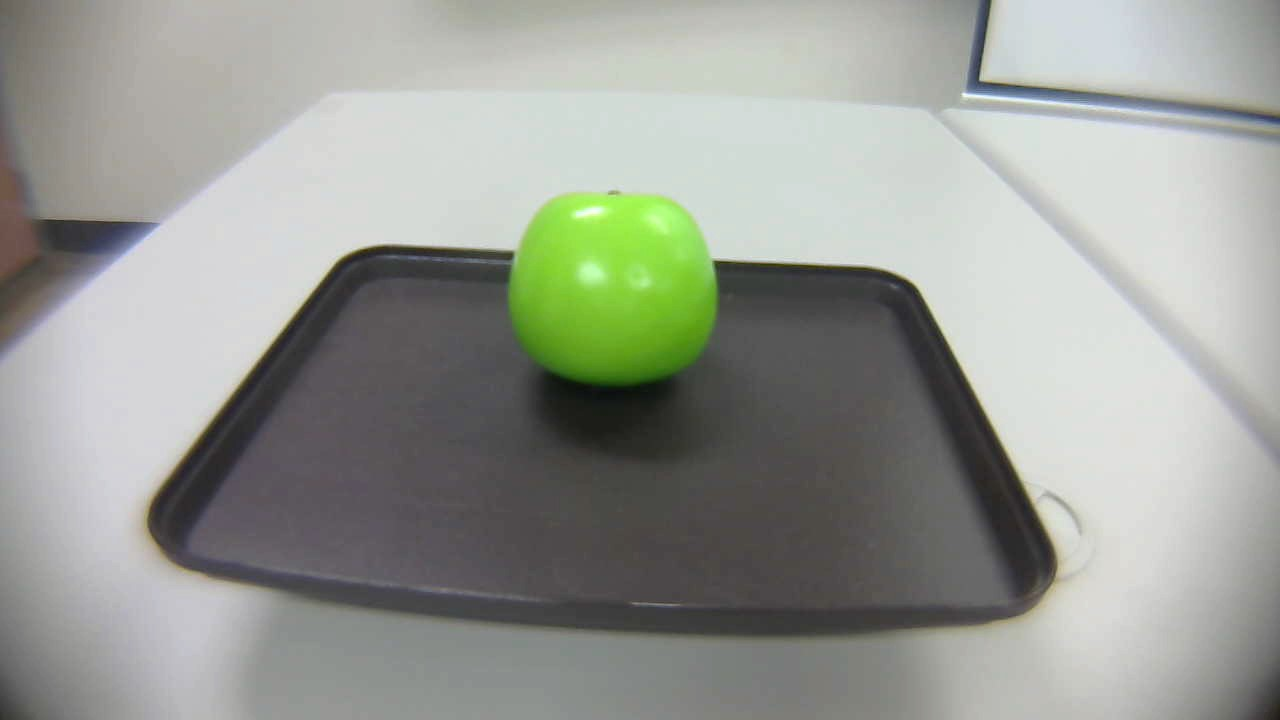green apple: (504, 187, 723, 390)
